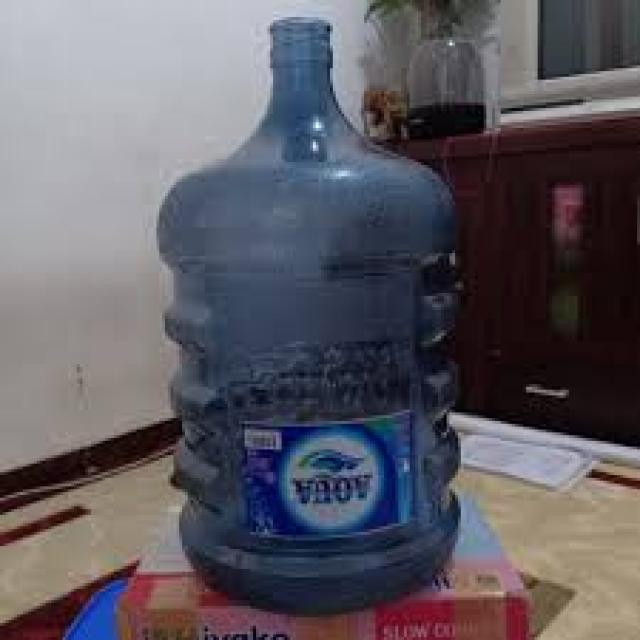Galon: (154, 11, 464, 612)
